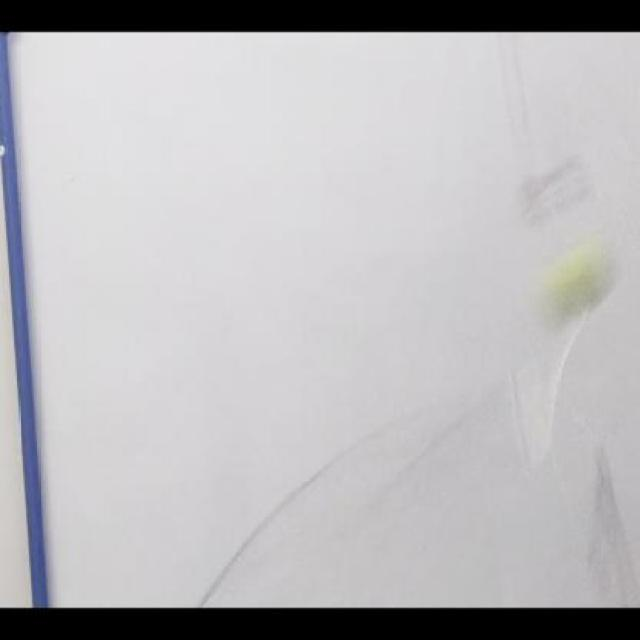baseball: (535, 237, 620, 321)
